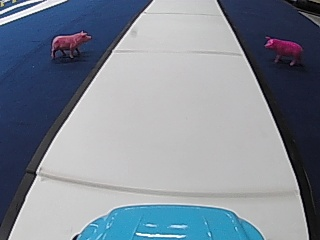pig: (261, 33, 304, 66), (48, 28, 91, 59)
